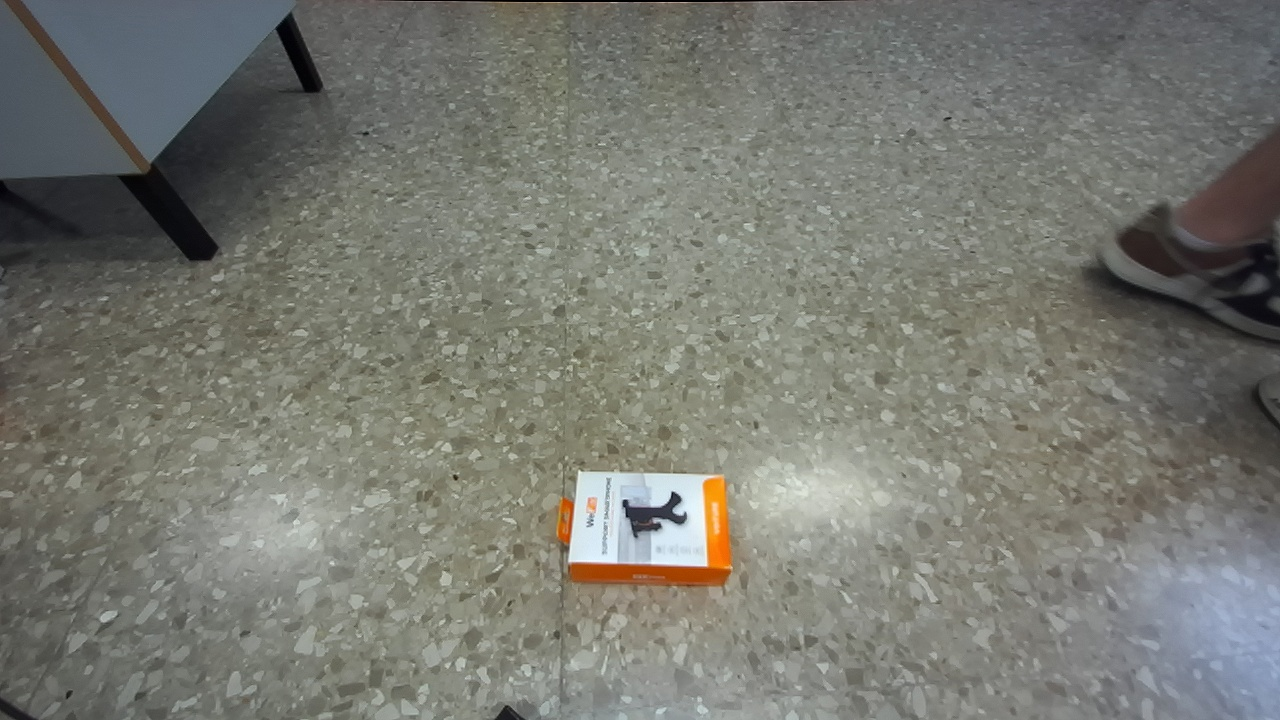caja_pcb: (557, 471, 731, 584)
